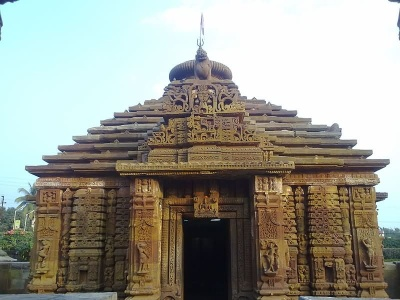amalaka: (164, 55, 244, 85)
gopuram: (23, 72, 396, 177)
